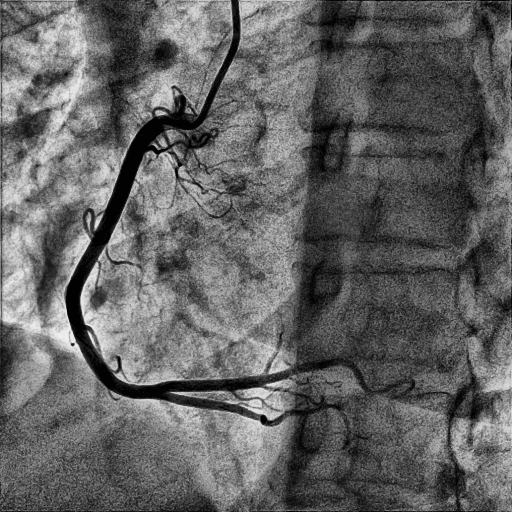pborca: (162, 359, 363, 392)
pda: (164, 393, 342, 427)
rca: (66, 114, 197, 399)
